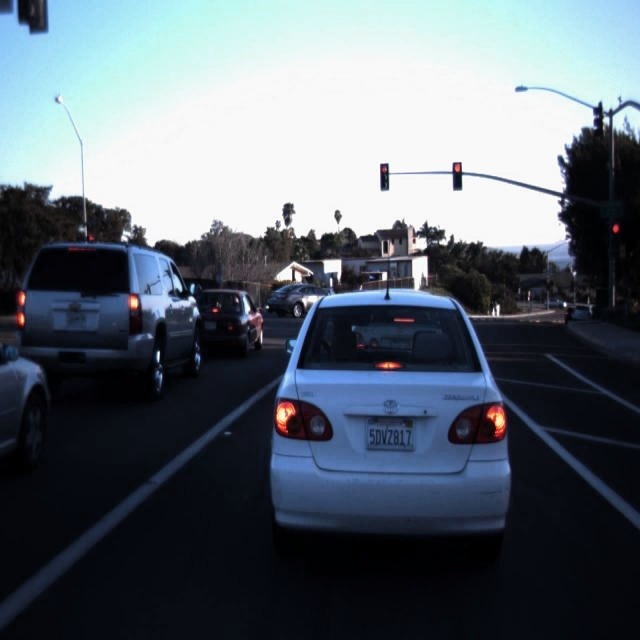stop: (613, 226, 619, 232), (455, 164, 460, 171)
stop left: (382, 167, 386, 172), (90, 237, 94, 240)
stop left traffic light: (377, 165, 391, 185), (86, 235, 98, 249)
stop traffic light: (450, 160, 465, 193), (608, 223, 624, 249)
